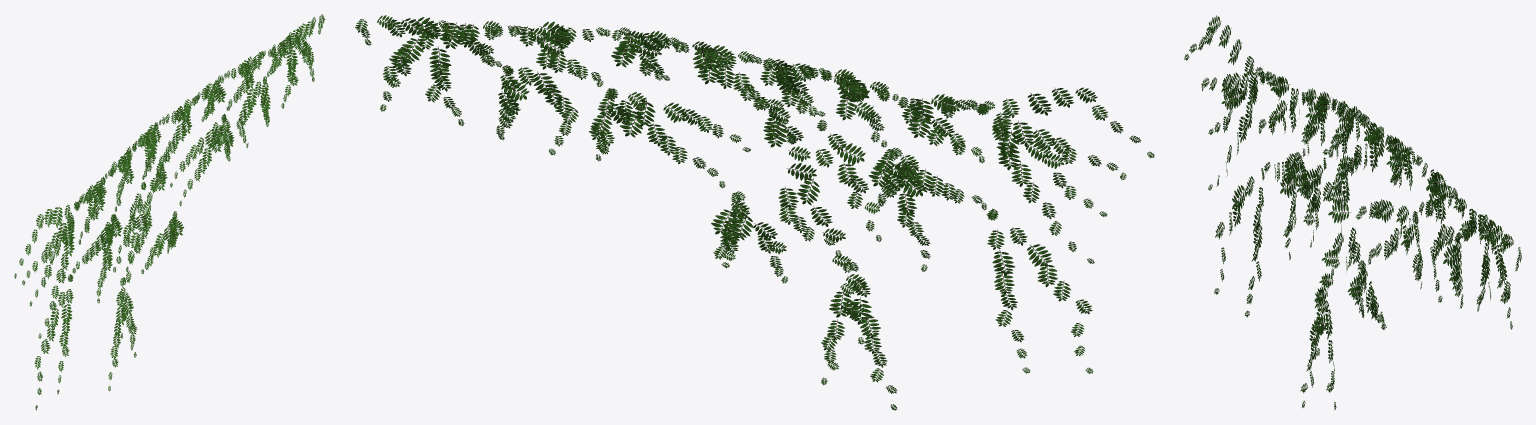
File: sm_vines_vault_2.fbx
3 views of the same model, side by side, from view 1: azimuth 30°, elevation 25°; view 2: azimuth 150°, elevation 25°; view 3: azimuth 270°, elevation 25° (orthographic). The views are drawn at different scales.
Visible parts, largest first — view 1: sm_vines_vault_2; view 2: sm_vines_vault_2; view 3: sm_vines_vault_2.
Boxes of the visible parts, x1,y1,x2,y2 form: sm_vines_vault_2: [14, 14, 325, 410]; sm_vines_vault_2: [355, 15, 1154, 410]; sm_vines_vault_2: [1184, 15, 1521, 410].
Bounding box in the file's own units: 3468 × 1977 × 1641.
